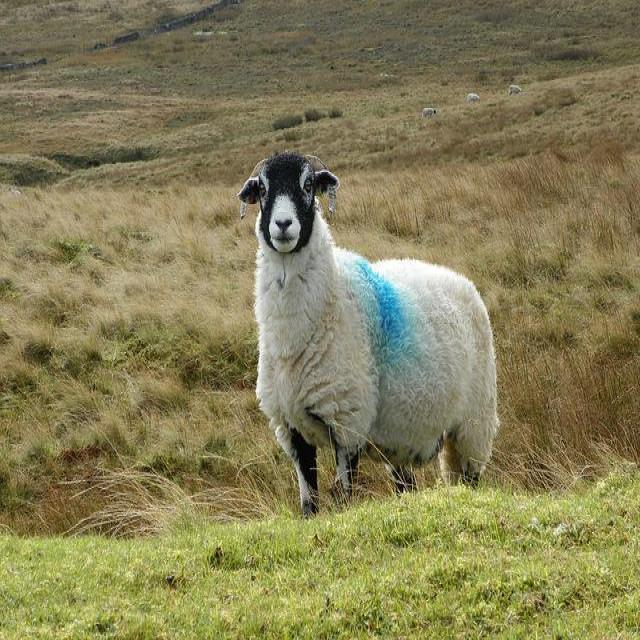Sheep: (239, 148, 500, 524)
